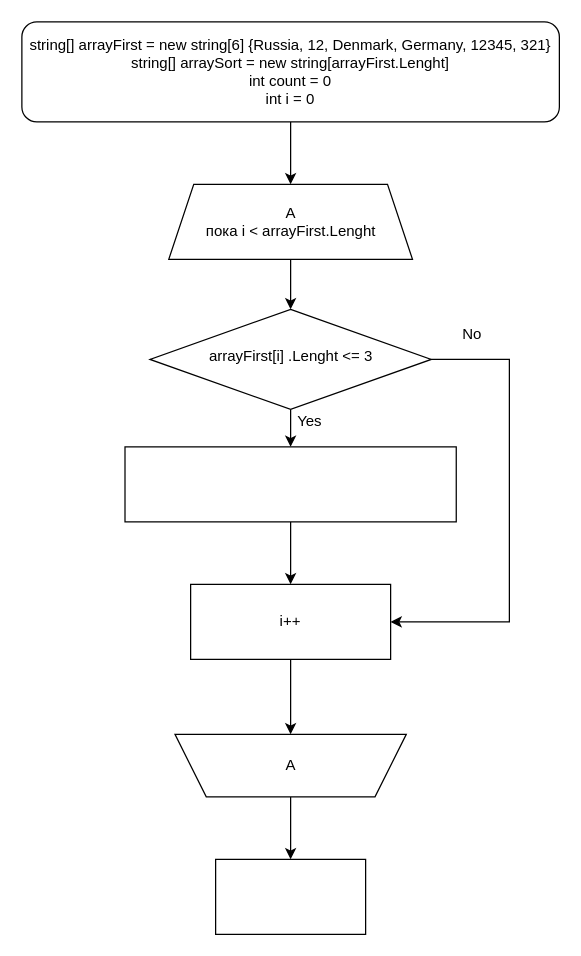
Image size: 581x956. Some labels were removed from this diagram. Each missing label, with the centre of its shape:
"arraySort[count] = arrayFirst[i] count++" goes at pixel 290 484.
"Print arraySort" goes at pixel 290 896.
